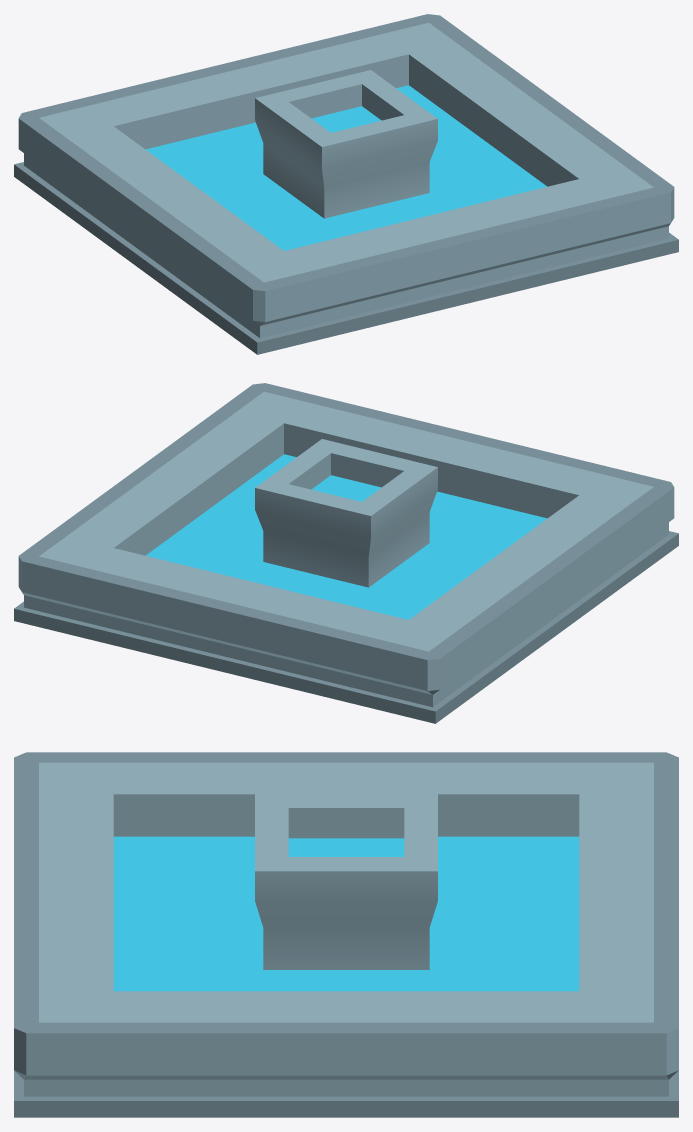
The model's file is fountainSquareDetail.obj.
The picture shows the model from 3 angles, top to bottom: view 1: azimuth 30°, elevation 25°; view 2: azimuth 150°, elevation 25°; view 3: azimuth 270°, elevation 25°; orthographic projection. The views are drawn at different scales.
Visible parts, largest first — view 1: fountainSquareDetail; view 2: fountainSquareDetail; view 3: fountainSquareDetail.
Boxes of the visible parts, <box> form: fountainSquareDetail: <box>14,14,678,354</box>; fountainSquareDetail: <box>14,383,678,723</box>; fountainSquareDetail: <box>14,752,678,1117</box>.
Size of the model in its own units: 2 by 0.48 by 2.
